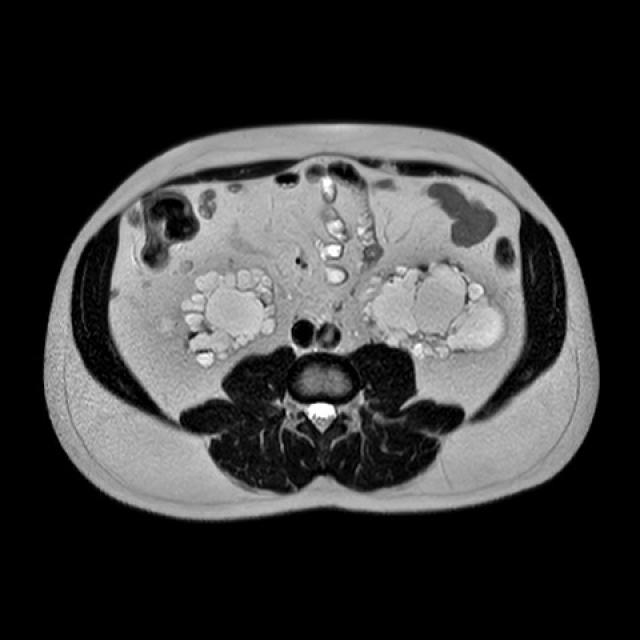sag: (182, 267, 277, 370), (154, 310, 181, 336)
sol: (361, 261, 507, 356)
